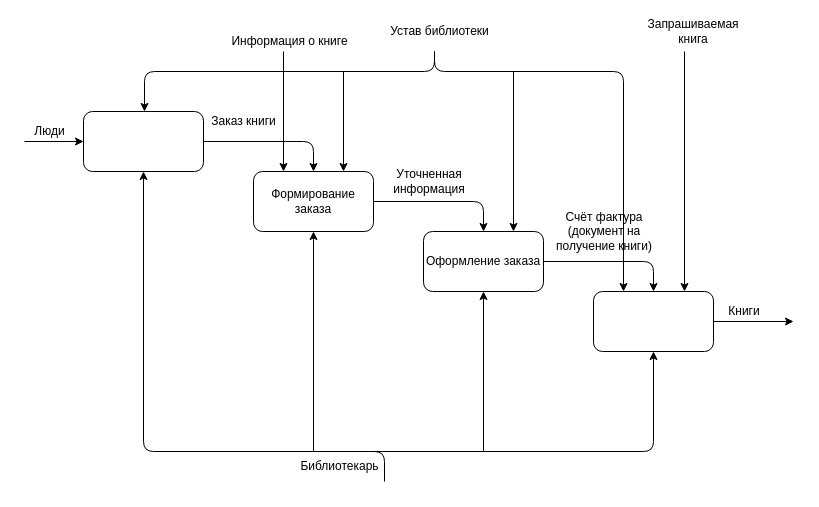
The diagram is 819 pixels wide and 507 high, and some of its shapes have lost their labels. Here are the shapes that lost their labels. From the top down, the centre of each, then its label:
pixel 143 141: Регистрация заказа
pixel 653 321: Выдача заказа
